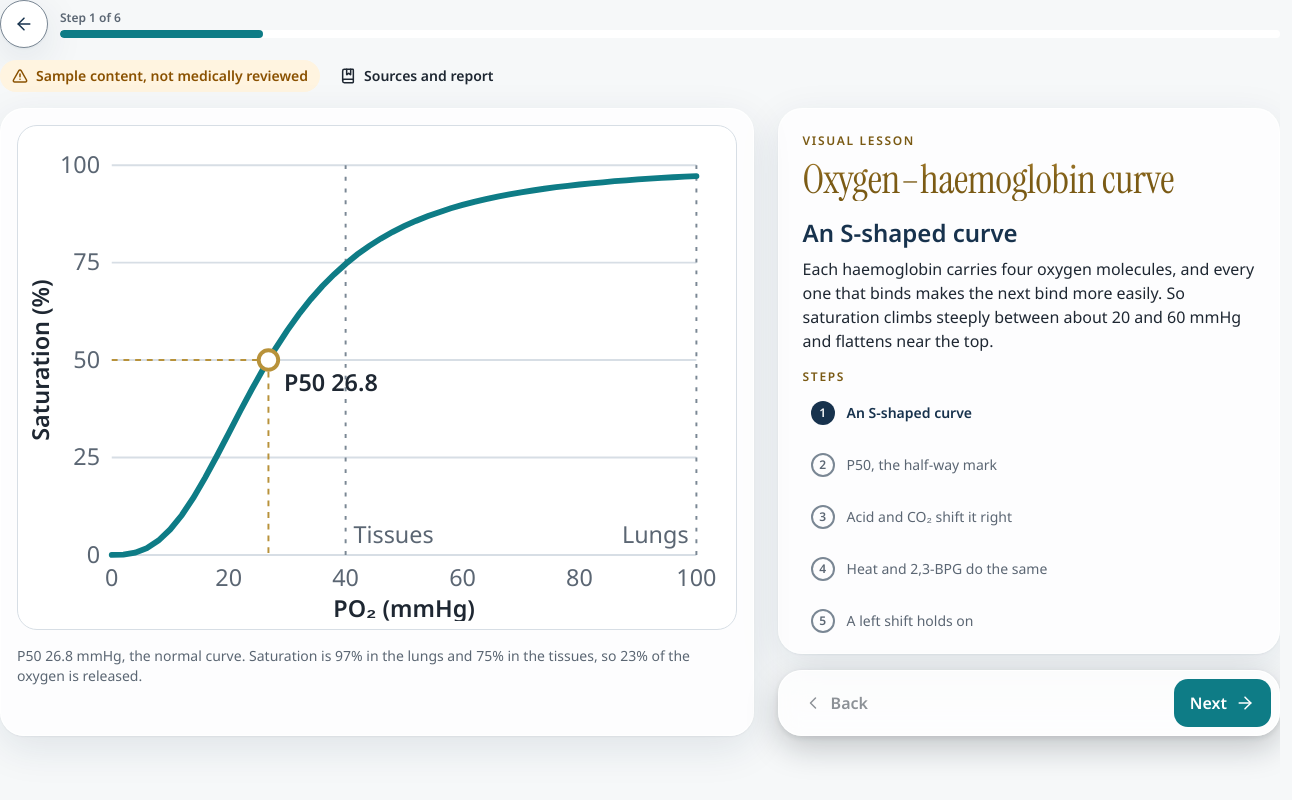
Test: LessonView › teaches the oxygen curve step by step, then hands over the sliders
Expected: the text "P50 26.8 mmHg, the normal curve" is shown, [17,646,737,686]
What coordinates should you click on to do the following:
click the button "Next"
I would click on:
 (1222, 703)
Its box is [1174,679,1271,727].
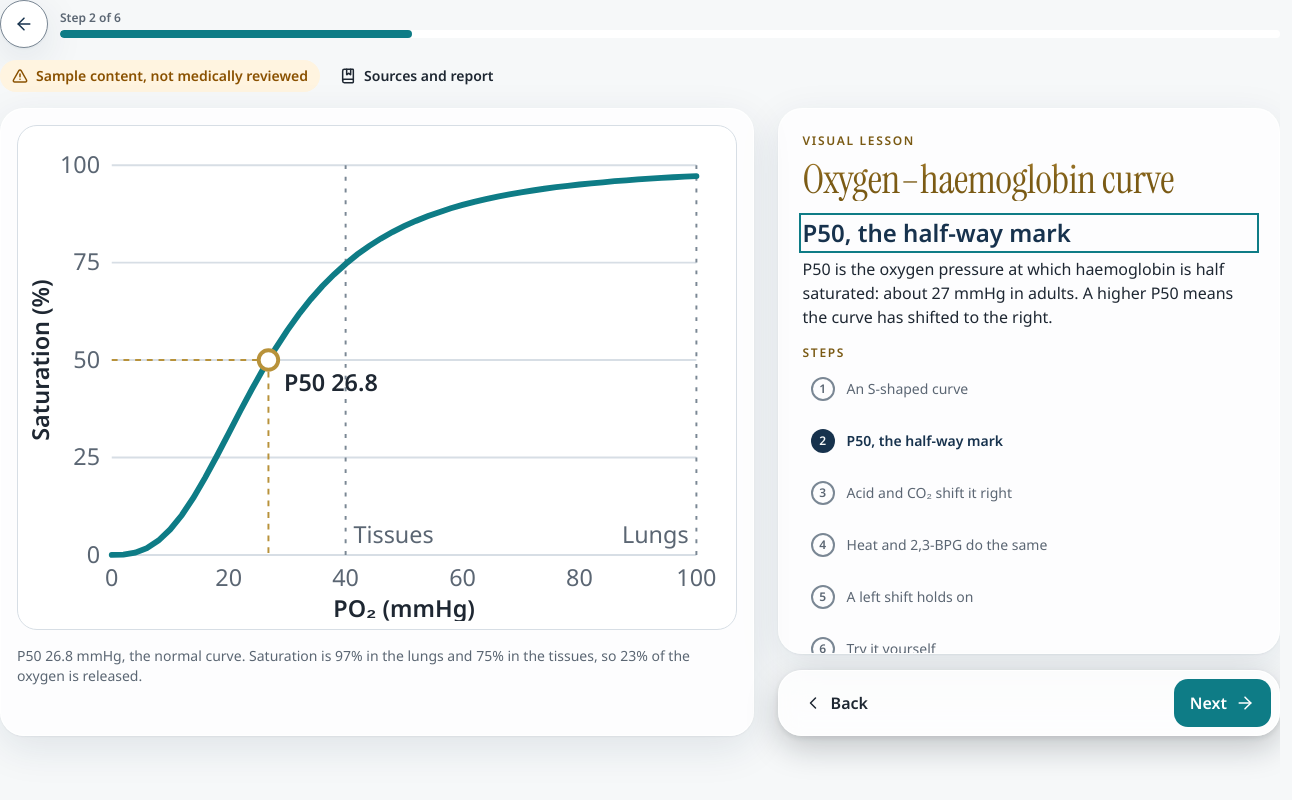
What coordinates should you click on to do the following:
click the button "Next"
I would click on:
 (1222, 703)
Its box is [1174,679,1271,727].
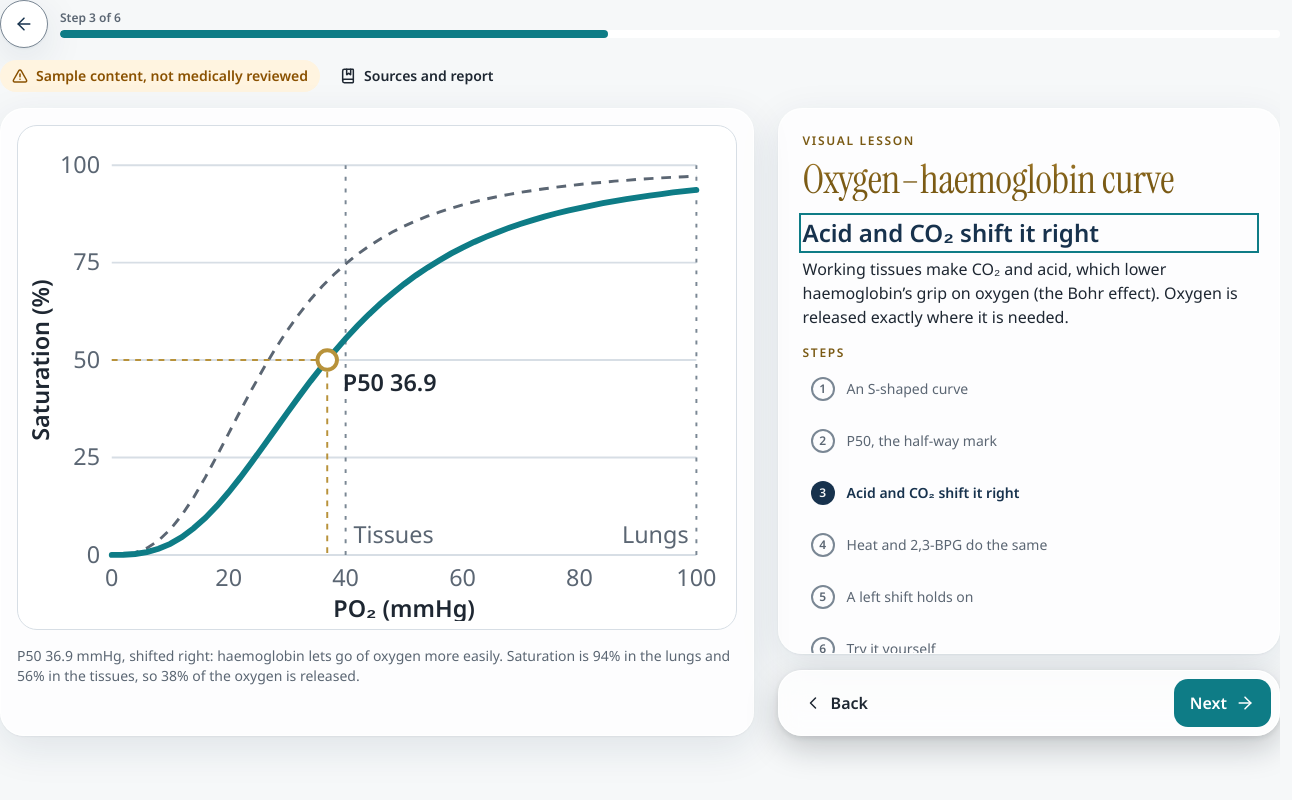
Expected: the heading "Acid and CO₂ shift it right" is shown, [803,216,1099,249]
Expected: the text "shifted right" is shown, [129,646,499,665]
What coordinates should you click on to do the following:
click the button "Next"
I would click on:
 (1222, 703)
Its box is [1174,679,1271,727].
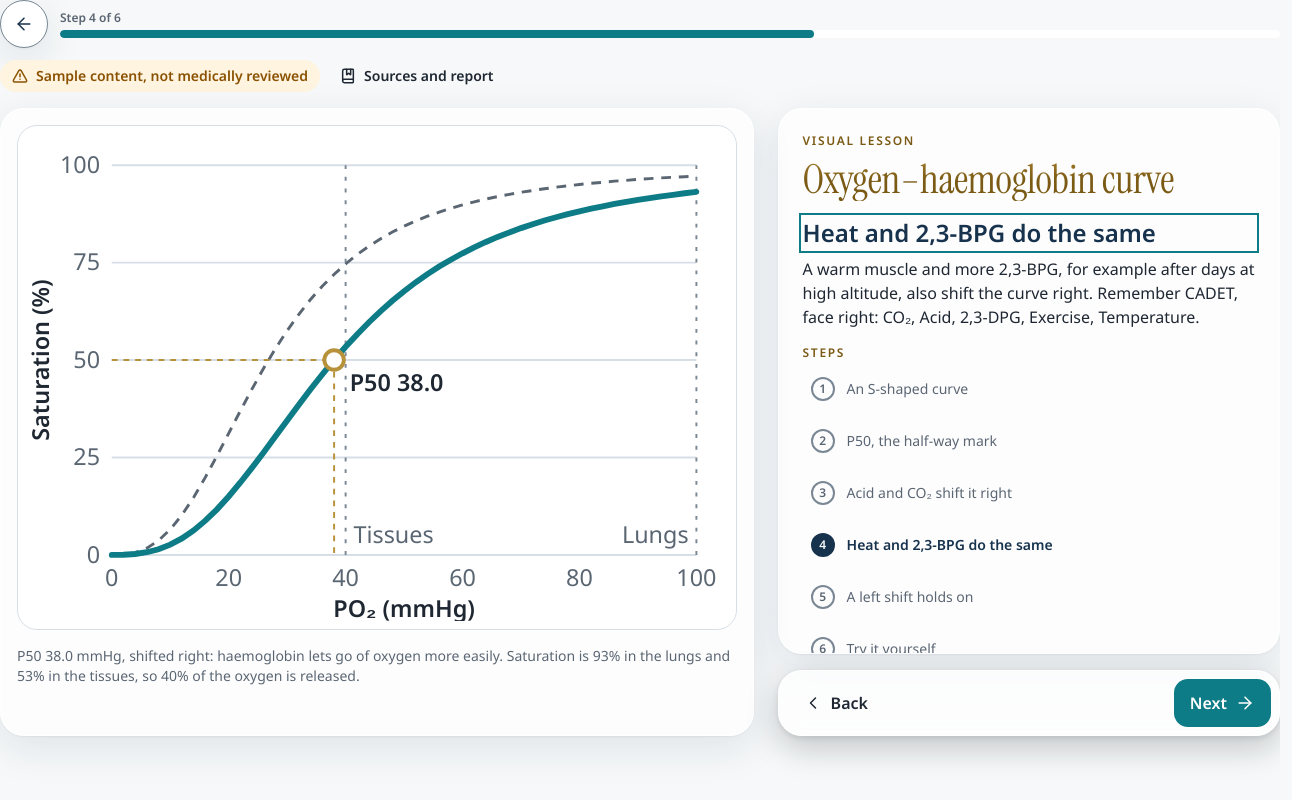
What coordinates should you click on to do the following:
click the button "Next"
I would click on:
 (1222, 703)
Its box is [1174,679,1271,727].
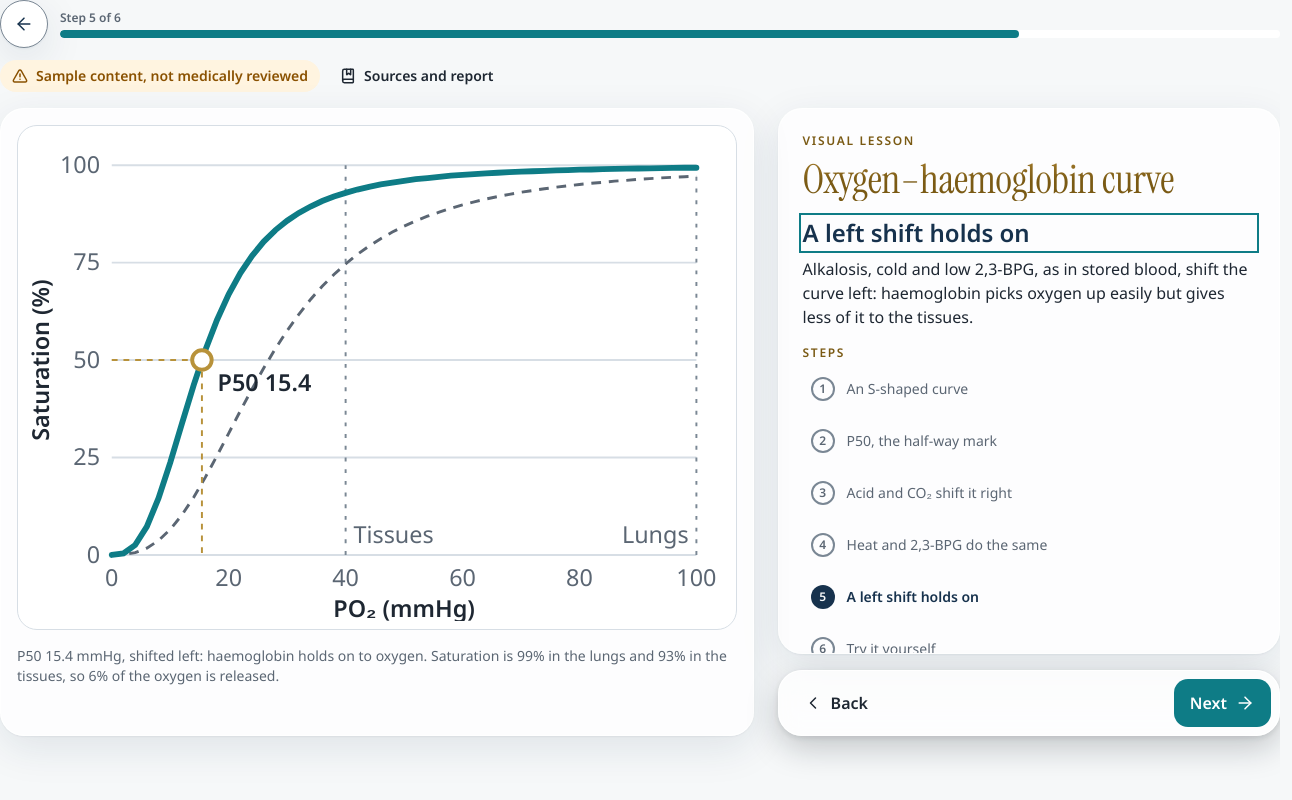
What coordinates should you click on to do the following:
click the button "Next"
I would click on:
 (1222, 703)
Its box is [1174,679,1271,727].
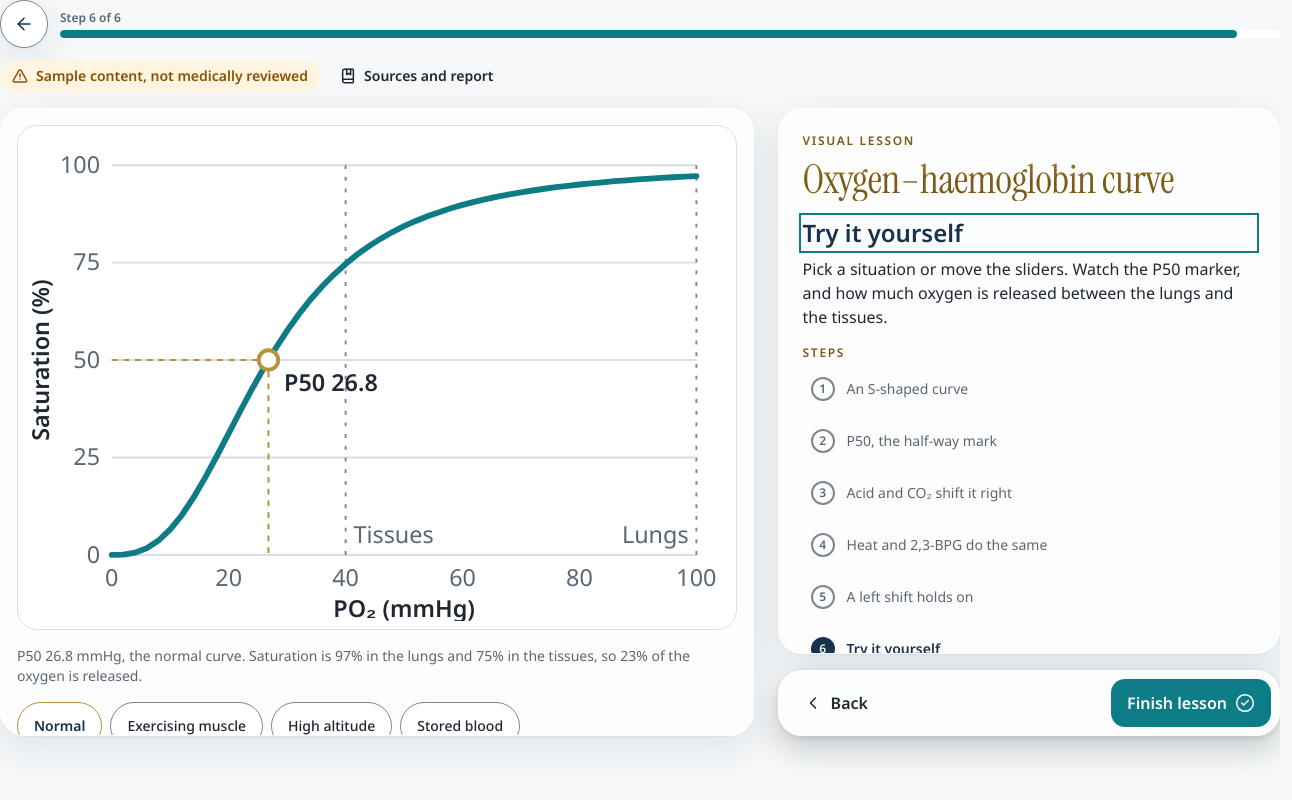
What coordinates should you click on to do the following:
click the button "Stored blood"
I would click on:
 (460, 726)
Its box is [400,702,520,750].
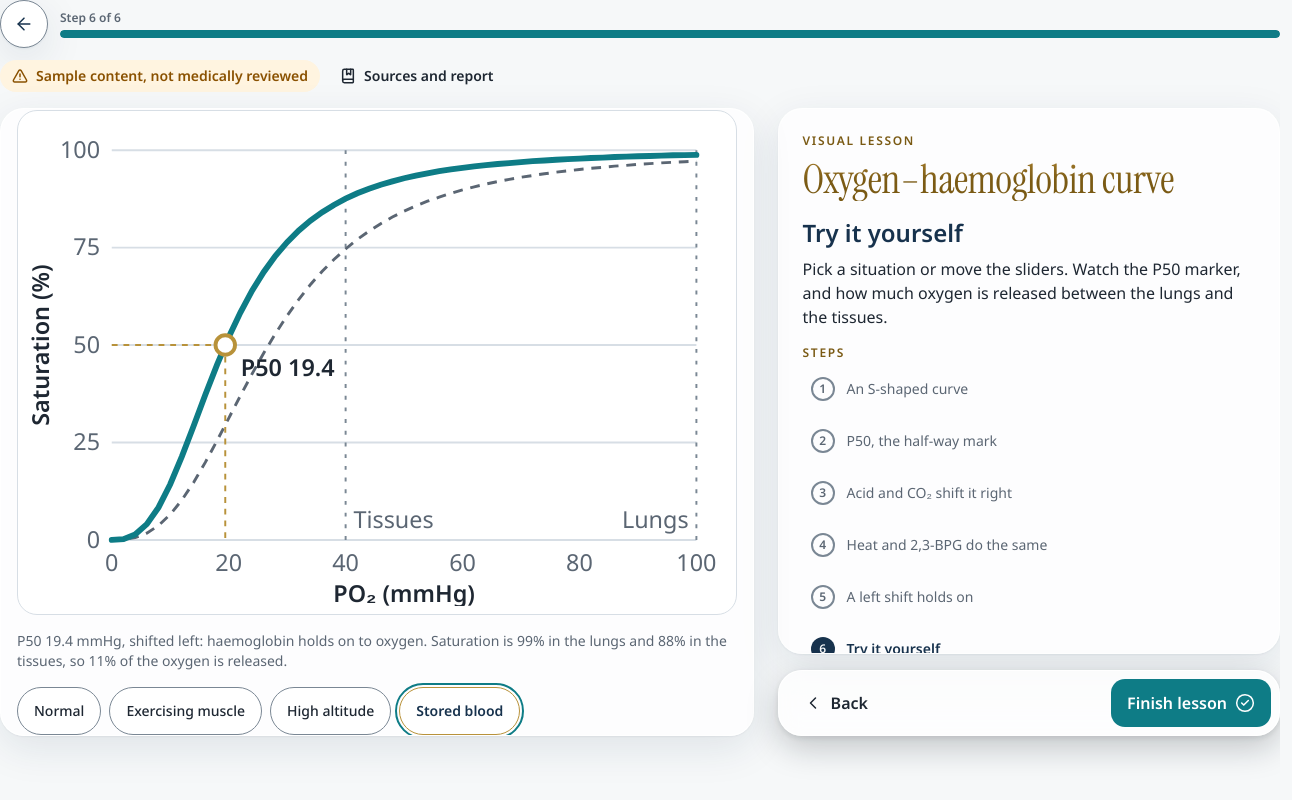
Expected: the text "shifted left" is shown, [129,631,424,650]
